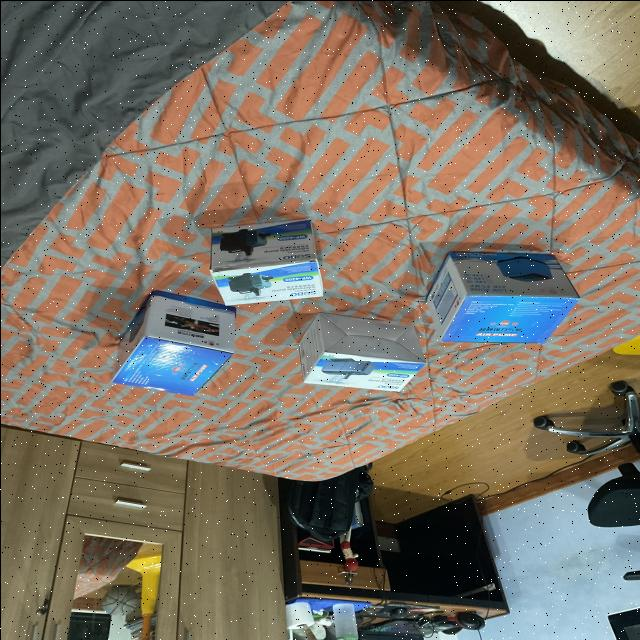SOBO_WP_4200: (195, 212, 332, 310), (294, 315, 428, 405)
YAMANO_LPP_20: (421, 242, 584, 358), (104, 290, 246, 409)
